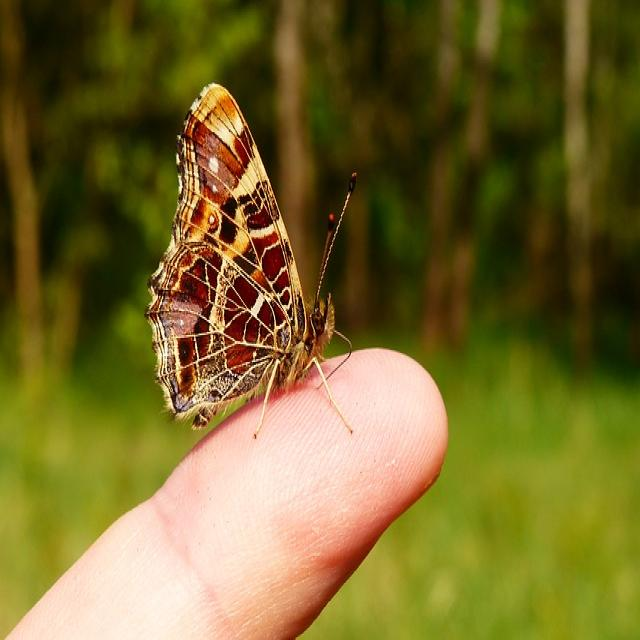butterfly: (145, 84, 336, 430)
